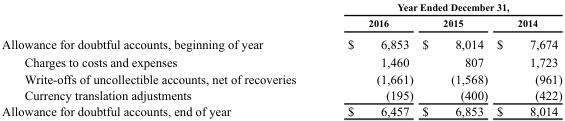table: (1, 0, 561, 118)
table column: (1, 0, 321, 118), (321, 0, 417, 118), (417, 0, 491, 118), (491, 0, 561, 118)
table column header: (1, 0, 561, 32)
table row: (1, 32, 561, 53), (1, 14, 561, 32), (1, 53, 561, 70), (1, 70, 561, 86), (1, 86, 561, 102), (1, 102, 561, 118), (1, 0, 561, 14)
table spanning cell: (321, 0, 561, 14)
